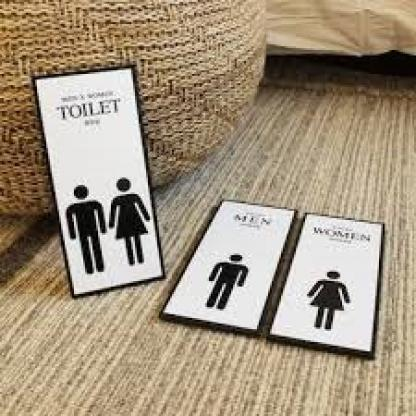toilet: (174, 242, 373, 341), (58, 163, 160, 286)
